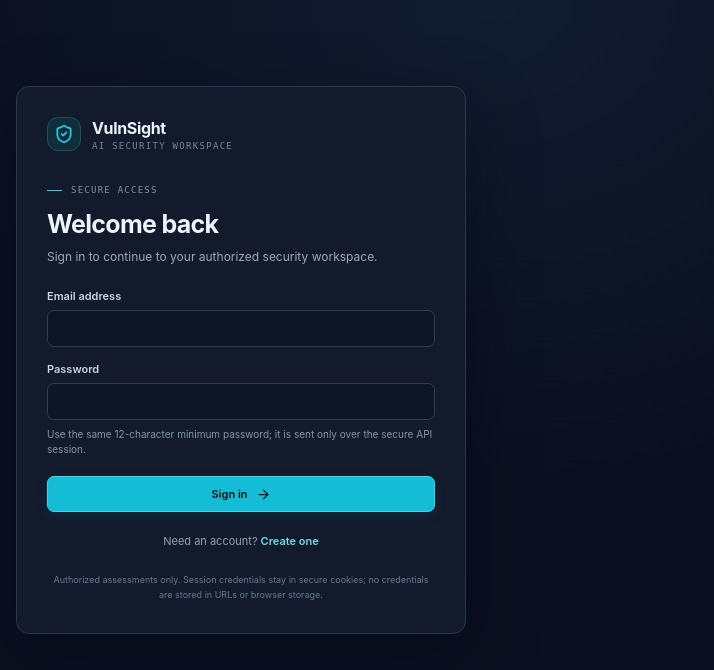
Scenario: authenticated API boundary › shows session loading then an API login error without fake access
The image size is (714, 670).
Expected: the button "Sign in" is enabled, [47,476,435,512]
Type "user@example.com" into the field labelled "Email address".
click(241, 328); type("user@example.com")  # box [47,310,435,347]
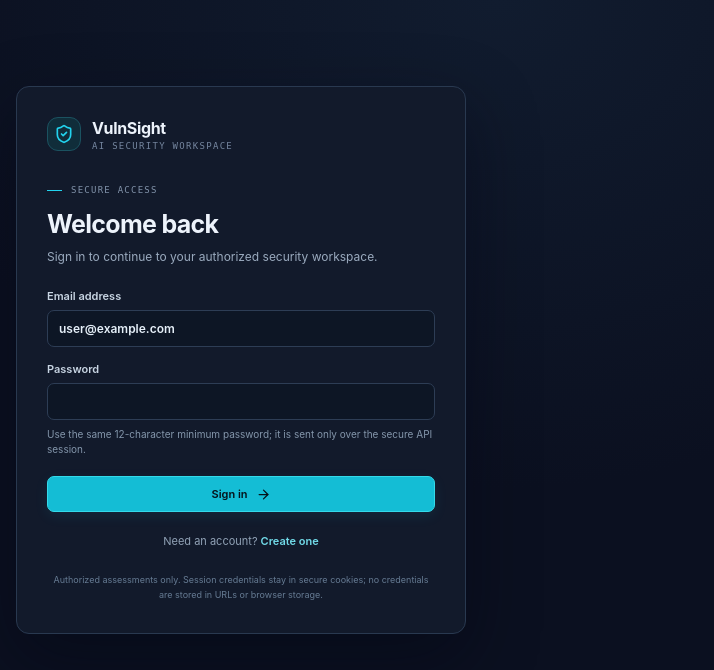
Type "wrong-password" into the password field labelled "Password".
click(241, 402); type("wrong-password")  # box [47,383,435,420]
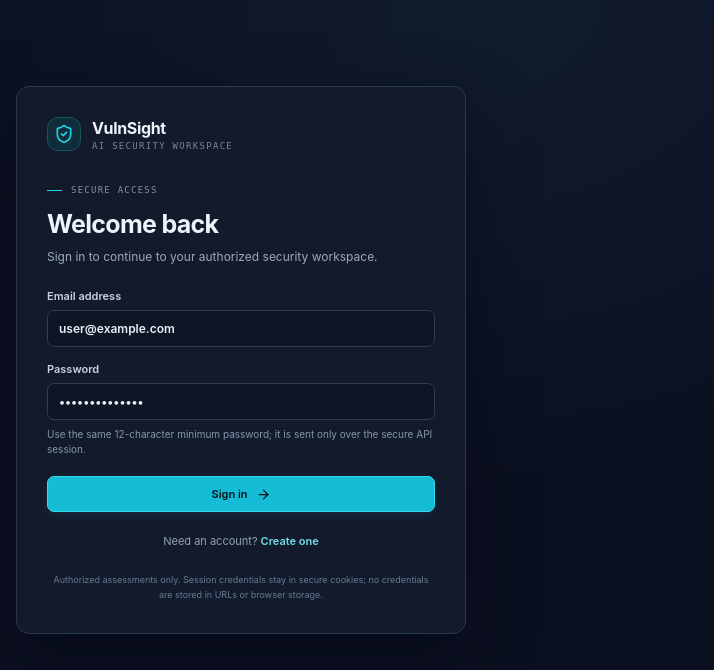
Click the button "Sign in".
click(241, 494)  # box [47,476,435,512]
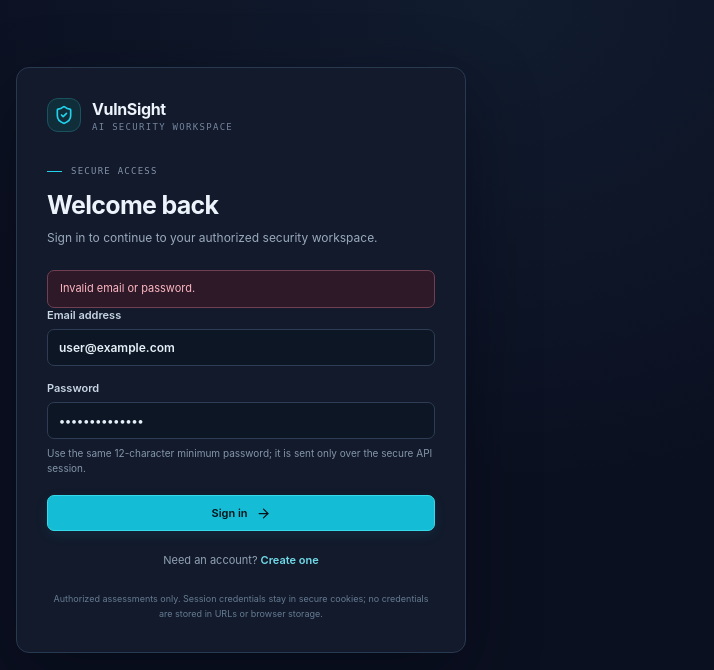
Expected: the message reads "Invalid email or password.", [60,281,195,295]
